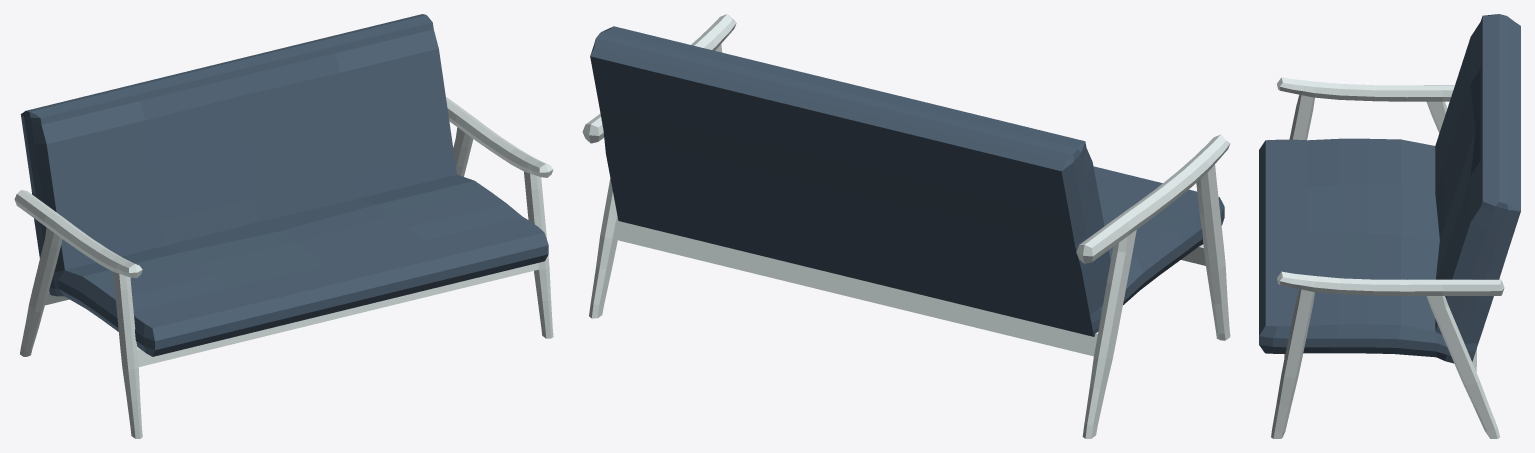
The picture shows the model from 3 angles, left to right: view 1: azimuth 30°, elevation 25°; view 2: azimuth 150°, elevation 25°; view 3: azimuth 270°, elevation 25°; orthographic projection. The views are drawn at different scales.
Parts seen in each view (by area): view 1: Sofa2; view 2: Sofa2; view 3: Sofa2.
Part boxes in pixels (left/top/right/bottom): Sofa2: left=14, top=14, right=553, bottom=438; Sofa2: left=582, top=14, right=1230, bottom=438; Sofa2: left=1259, top=14, right=1520, bottom=438.
Size of the model in its own units: 2.05 by 1.1 by 1.12.
